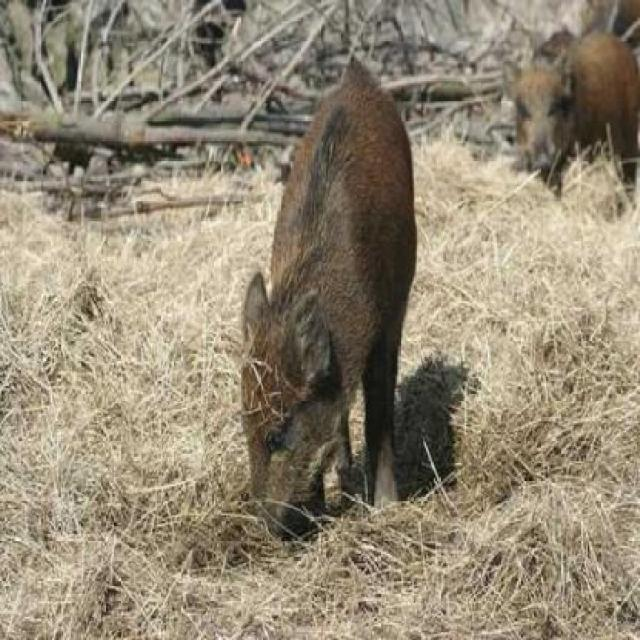Boar: (234, 38, 460, 530), (466, 23, 639, 200)
